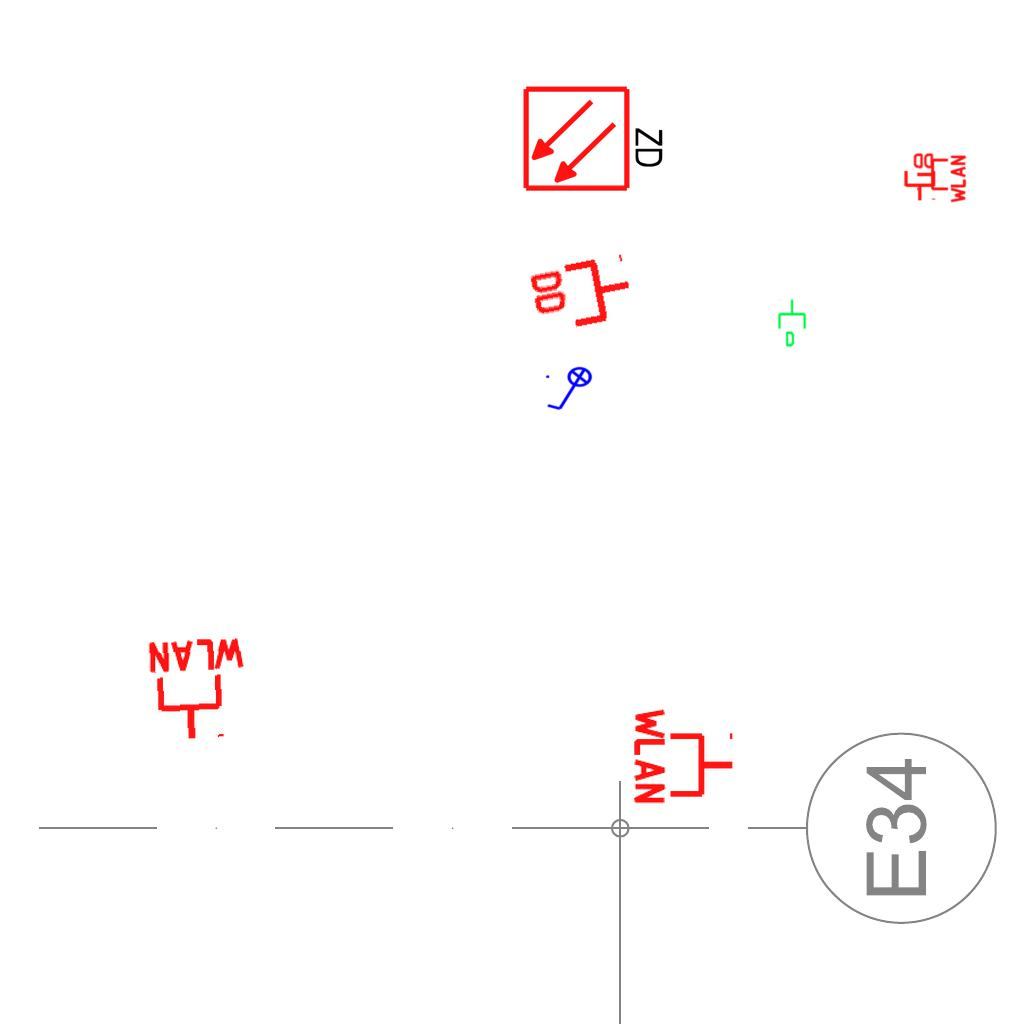Ausschalter_beleuchtet: (543, 366, 599, 414)
Datenanschluss_einfach: (776, 298, 810, 348)
Datenanschluss_zweifach: (524, 251, 639, 340), (902, 151, 936, 202)
WLAN: (143, 634, 254, 746), (632, 704, 737, 808), (915, 153, 967, 205)
ZD_Melder_in_Zwischendecke_mit_Revisionsoeffnung_mind_40_x_40_cm: (521, 80, 670, 194)
